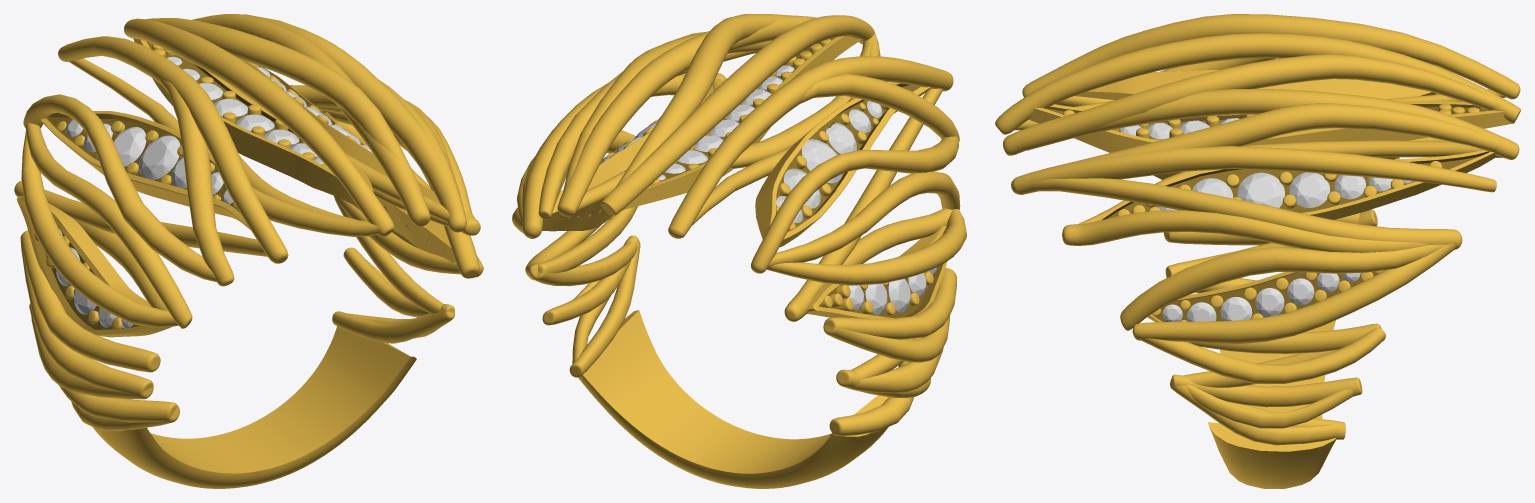
The model's file is Ring_D_ShadowParts.fbx.
3 renders of one model, left to right at view 1: azimuth 30°, elevation 25°; view 2: azimuth 150°, elevation 25°; view 3: azimuth 270°, elevation 25°, orthographic.
Parts seen in each view (by area): view 1: Ring_D_ShadowParts_Object_01_Object, Ring_D_ShadowParts_Diamonds_Object, Ring_D_ShadowParts_Object_02_Object; view 2: Ring_D_ShadowParts_Object_01_Object, Ring_D_ShadowParts_Diamonds_Object, Ring_D_ShadowParts_Object_02_Object; view 3: Ring_D_ShadowParts_Object_01_Object, Ring_D_ShadowParts_Diamonds_Object, Ring_D_ShadowParts_Object_02_Object.
Part boxes in pixels (box(x1,y1,x2,y2)): Ring_D_ShadowParts_Object_01_Object: box(14, 14, 483, 488); Ring_D_ShadowParts_Diamonds_Object: box(56, 56, 430, 328); Ring_D_ShadowParts_Object_02_Object: box(21, 42, 445, 330); Ring_D_ShadowParts_Object_01_Object: box(512, 14, 966, 488); Ring_D_ShadowParts_Diamonds_Object: box(600, 65, 937, 314); Ring_D_ShadowParts_Object_02_Object: box(568, 37, 946, 318); Ring_D_ShadowParts_Object_01_Object: box(995, 14, 1520, 488); Ring_D_ShadowParts_Diamonds_Object: box(1120, 118, 1412, 321); Ring_D_ShadowParts_Object_02_Object: box(1045, 104, 1488, 321).
Bounding box in the file's own units: 2.15 × 2.26 × 2.52.
